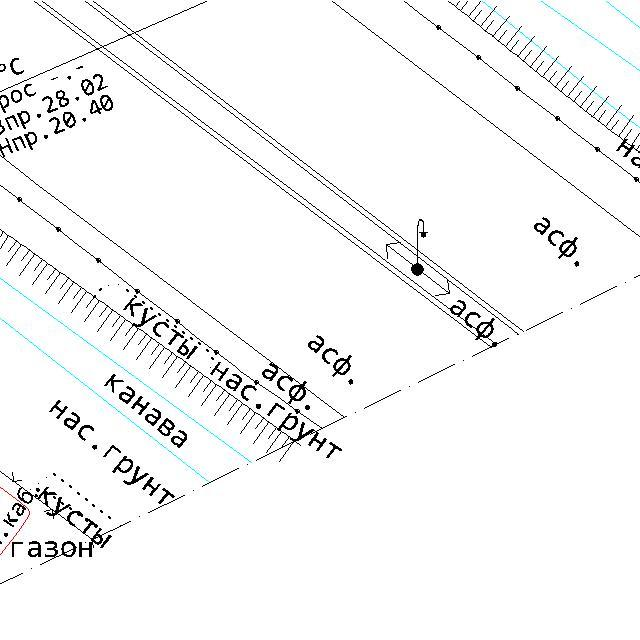asphalt: (448, 299, 500, 348), (307, 334, 355, 387), (261, 362, 311, 411), (533, 216, 581, 267)
